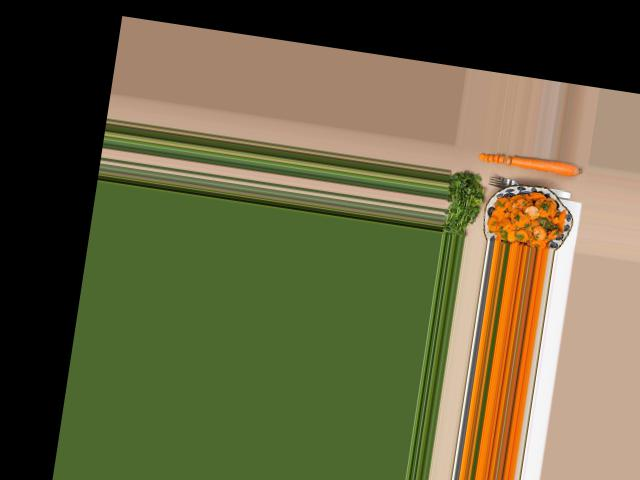carrot: (511, 152, 582, 176)
